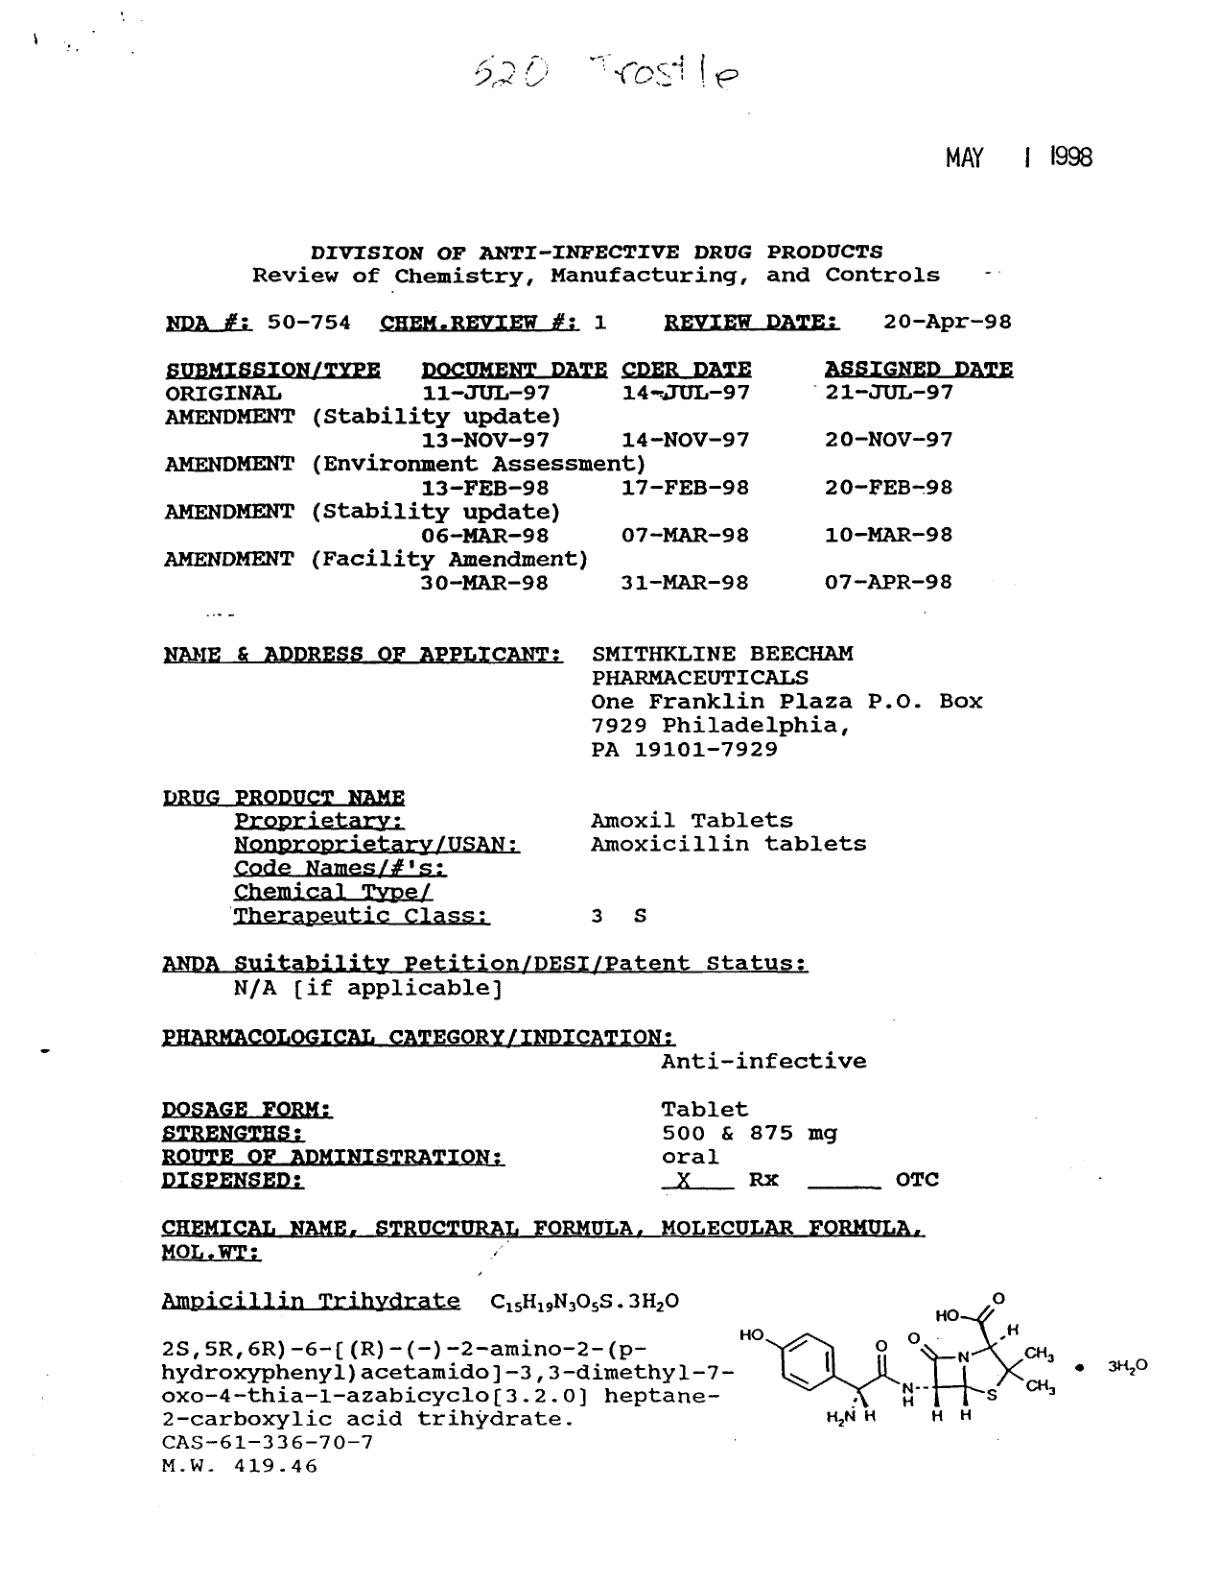nolines: (163, 644, 986, 927), (163, 359, 1017, 590), (163, 1026, 943, 1192)
